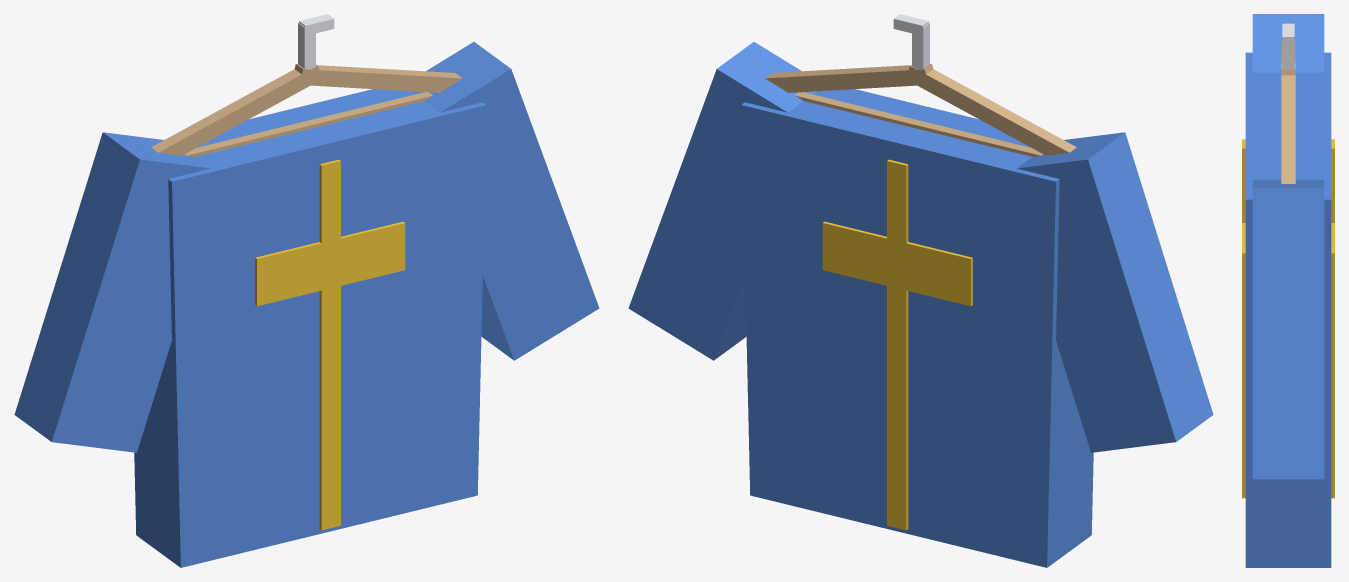
The model's file is jacket.glb.
3 views of the same model, side by side, from view 1: azimuth 30°, elevation 25°; view 2: azimuth 150°, elevation 25°; view 3: azimuth 270°, elevation 25° (orthographic). The views are drawn at different scales.
Visible parts, largest first — view 1: GarmentBody, GarmentAccent, WoodenHanger, Hook; view 2: GarmentBody, GarmentAccent, WoodenHanger, Hook; view 3: GarmentBody, GarmentAccent, WoodenHanger, Hook.
Part boxes in pixels (<box>): GarmentBody: <box>14,42,599,567</box>; GarmentAccent: <box>255,159,405,530</box>; WoodenHanger: <box>151,64,462,156</box>; Hook: <box>298,14,334,69</box>; GarmentBody: <box>628,42,1213,567</box>; GarmentAccent: <box>822,159,972,530</box>; WoodenHanger: <box>765,64,1076,156</box>; Hook: <box>893,14,929,69</box>; GarmentBody: <box>1245,14,1331,567</box>; GarmentAccent: <box>1242,139,1334,498</box>; WoodenHanger: <box>1281,41,1295,183</box>; Hook: <box>1282,23,1294,69</box>.
Bounding box in the file's own units: 1.7 × 1.46 × 0.26.
